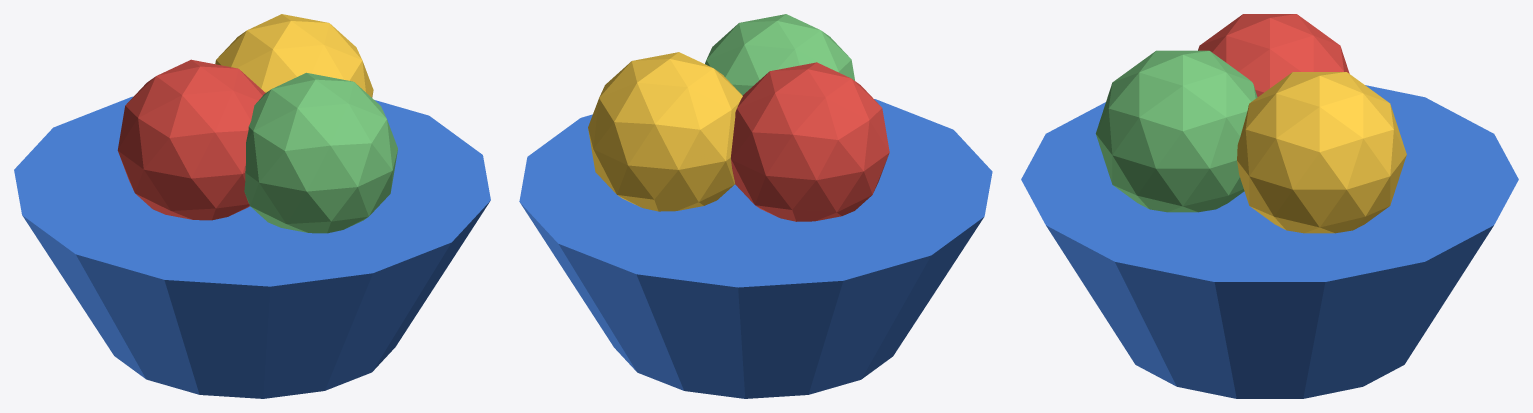
Rendered from Kitchen_Bowl.fbx.
3 views of the same model, side by side, from view 1: azimuth 30°, elevation 25°; view 2: azimuth 150°, elevation 25°; view 3: azimuth 270°, elevation 25° (orthographic). The views are drawn at different scales.
Visible parts, largest first — view 1: Bowl; view 2: Bowl; view 3: Bowl.
Boxes of the visible parts, x1=… form: Bowl: x1=14, y1=14, x2=490, y2=398; Bowl: x1=519, y1=14, x2=992, y2=398; Bowl: x1=1021, y1=14, x2=1518, y2=398.
Size of the model in its own units: 0.39 by 0.26 by 0.4.
